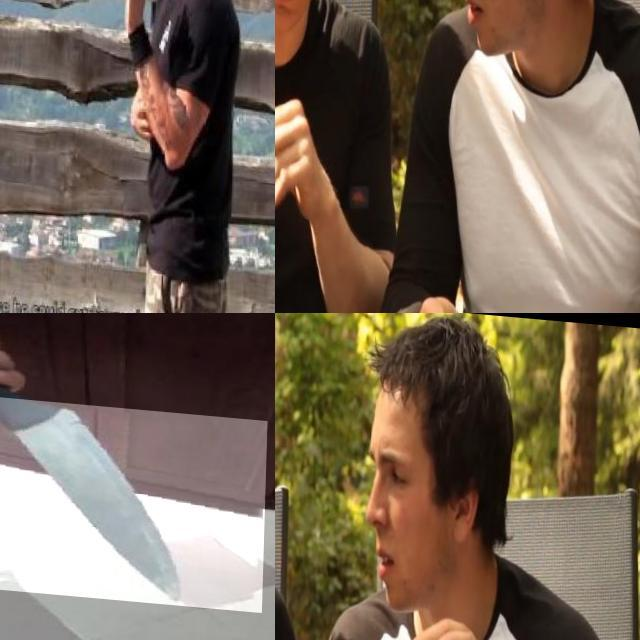-: (0, 392, 268, 604), (275, 204, 313, 313), (0, 247, 39, 313)
